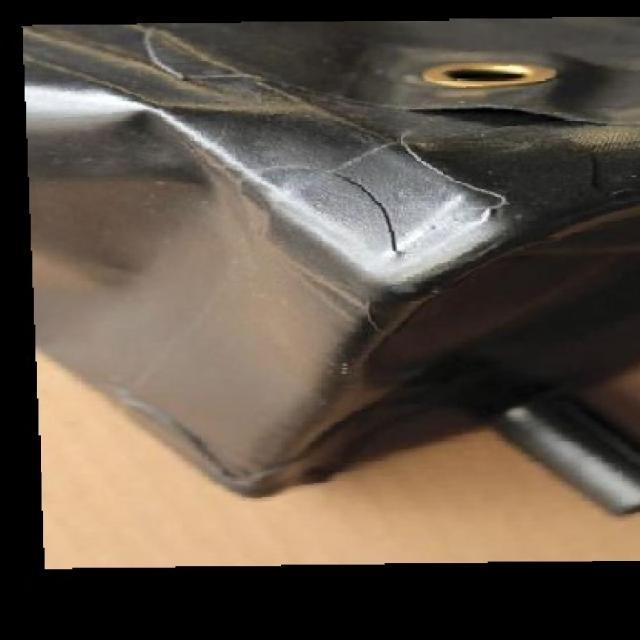crack: (328, 169, 450, 285)
